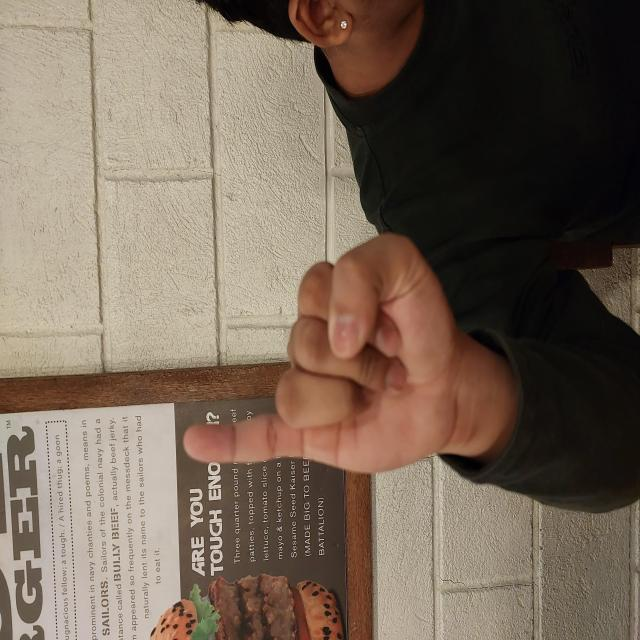I: (165, 182, 410, 464)
